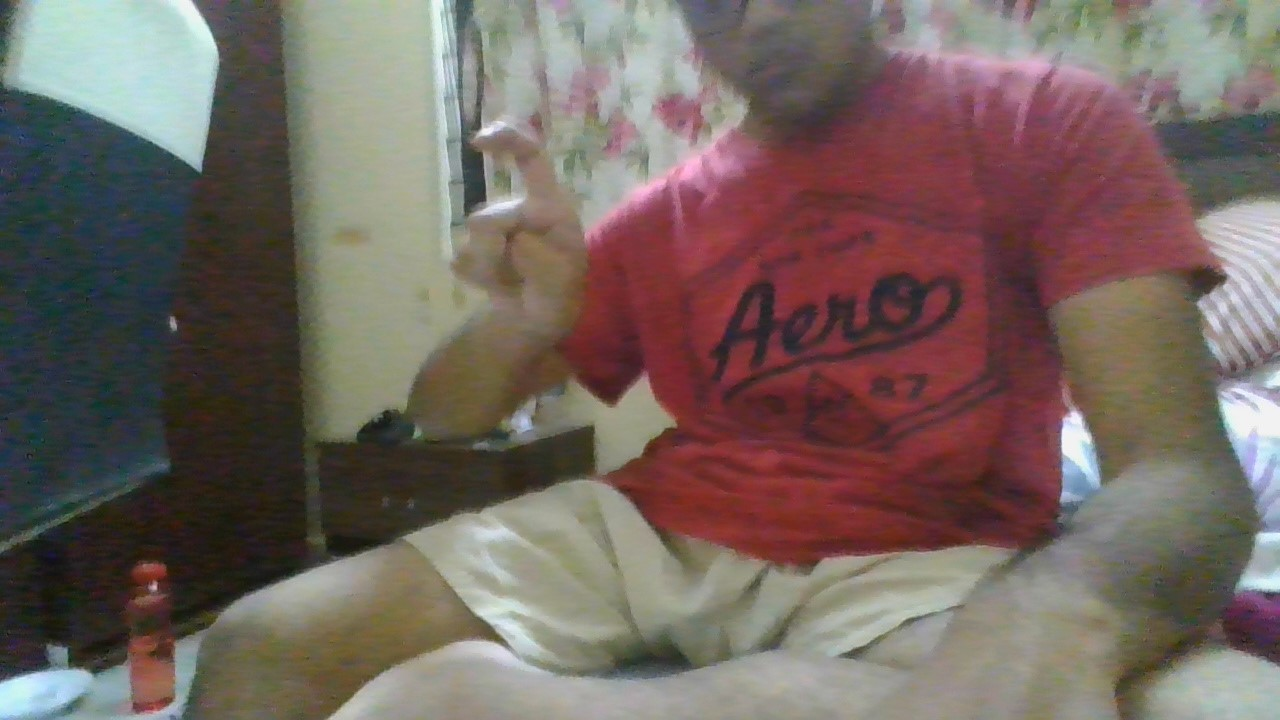x: (443, 106, 594, 339)
